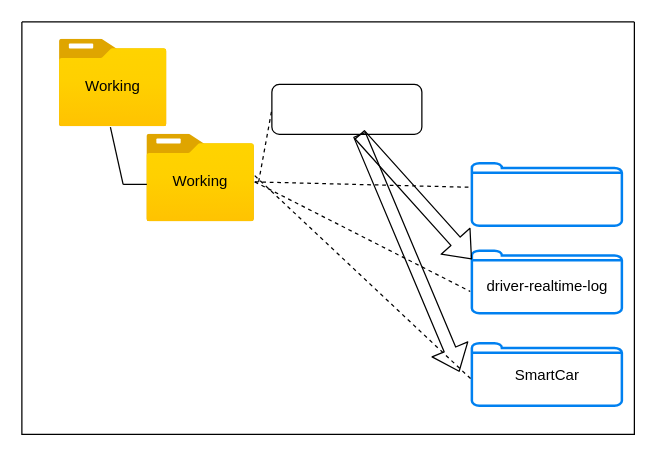
Some shapes in this 656 by 456 pixel diagram are drawn without their labels. Here are the shapes that lost their labels. From the top down, the centre of each, then its label:
At pixel 346 108: "로그 시뮬레이터.jar".
At pixel 546 193: "car-batch-log".
